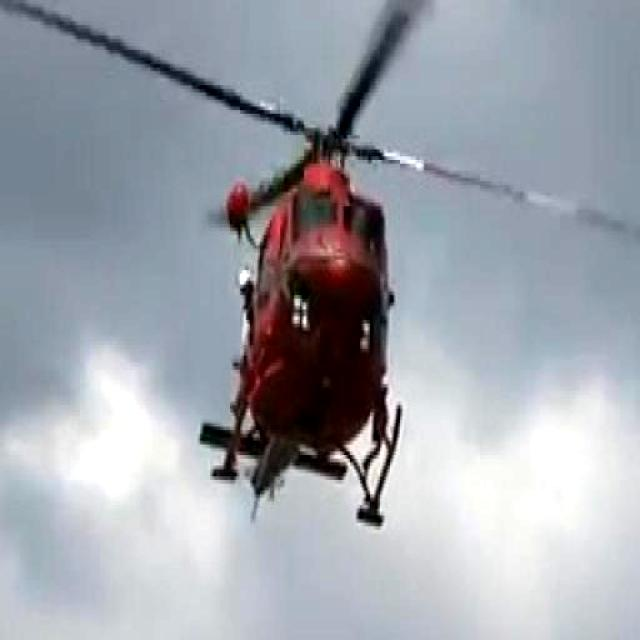drone: (0, 0, 640, 549)
